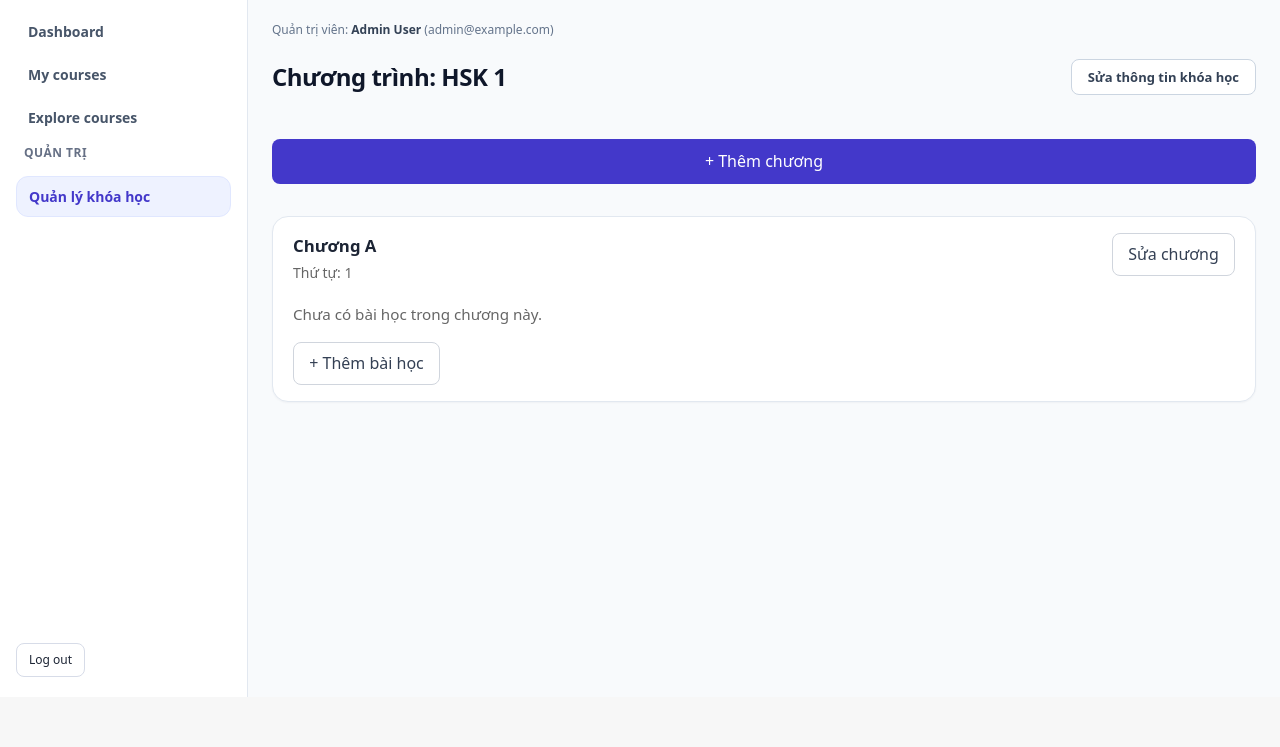
Test: AdminCurriculumPage › shows validation errors when creating a lesson with invalid duration
Expected: the heading "Chương A" is shown, [293, 233, 376, 258]
Click the button "+ Thêm bài học": [366, 363] box [293, 342, 440, 385]
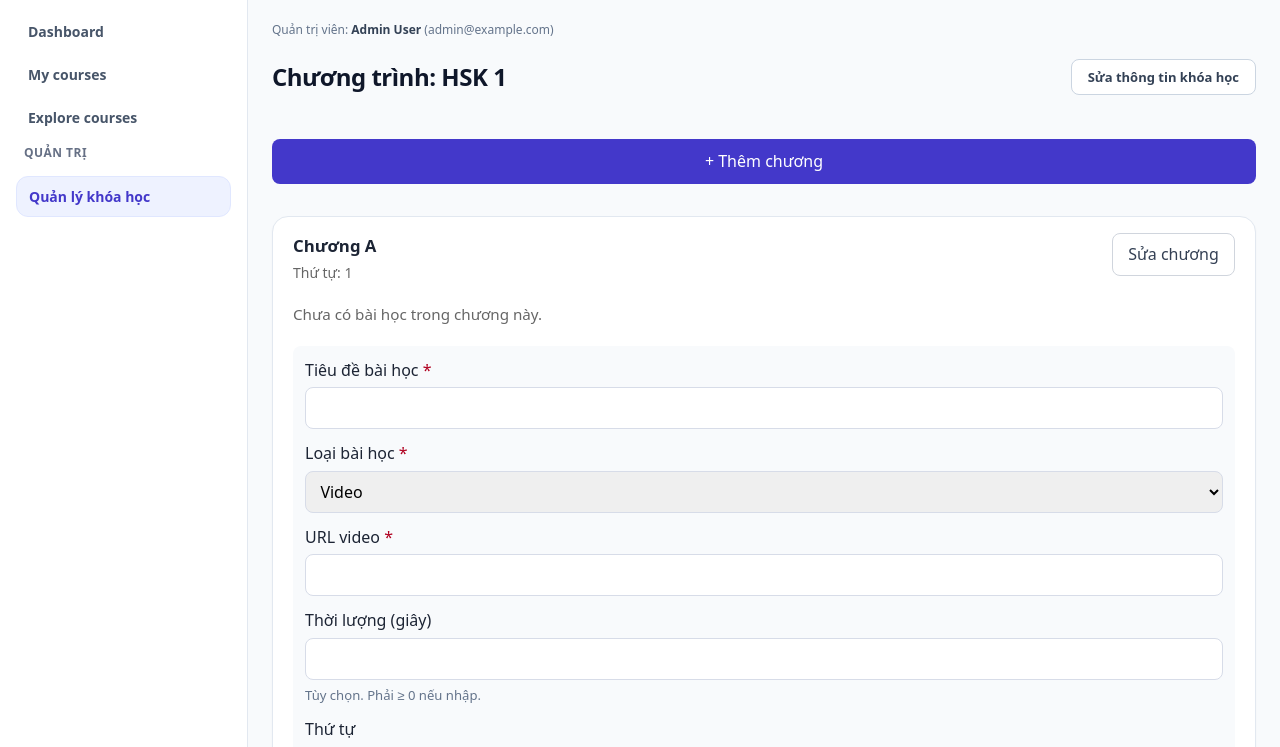
In the field labelled "Tiêu đề bài học *": [764, 408] box [305, 387, 1223, 429], type "Quiz intro"
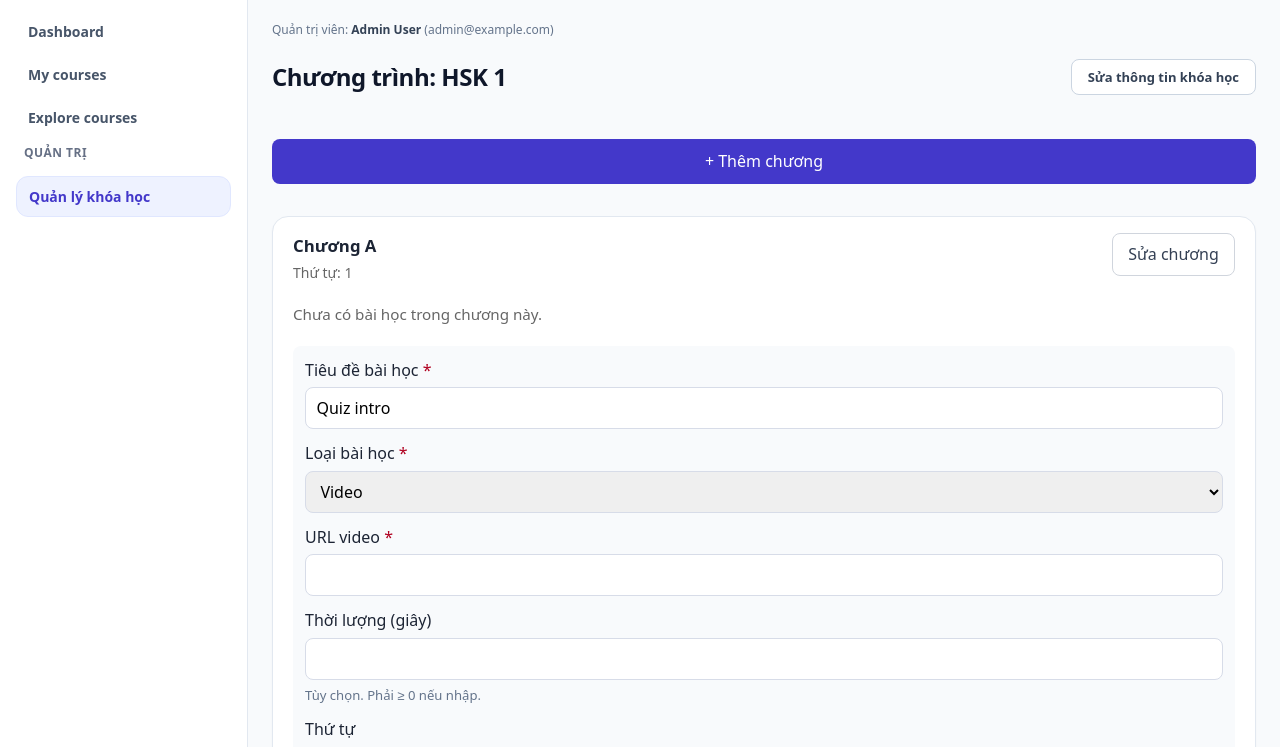
In the field labelled "URL video *": [764, 575] box [305, 554, 1223, 596], type "https://example.com/video.mp4"
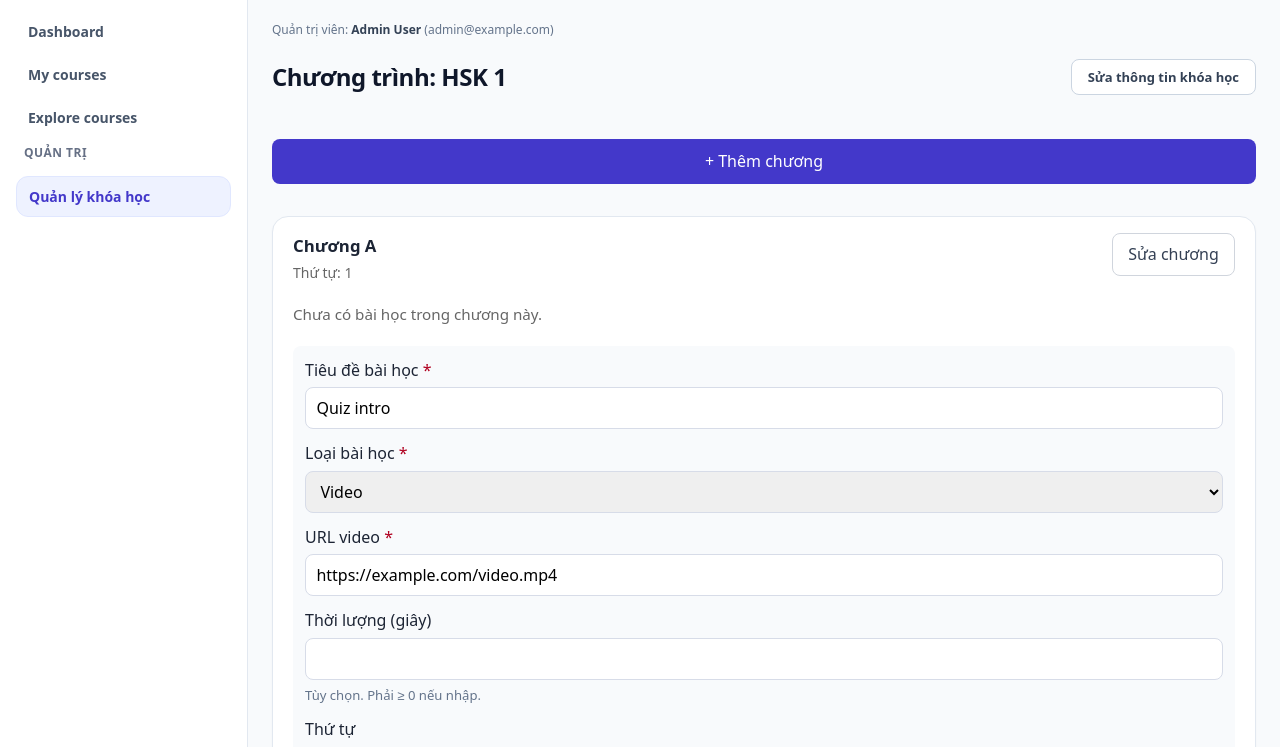
In the field labelled "Thời lượng (giây)": [764, 659] box [305, 638, 1223, 680], type "-5"
(page scrolled)
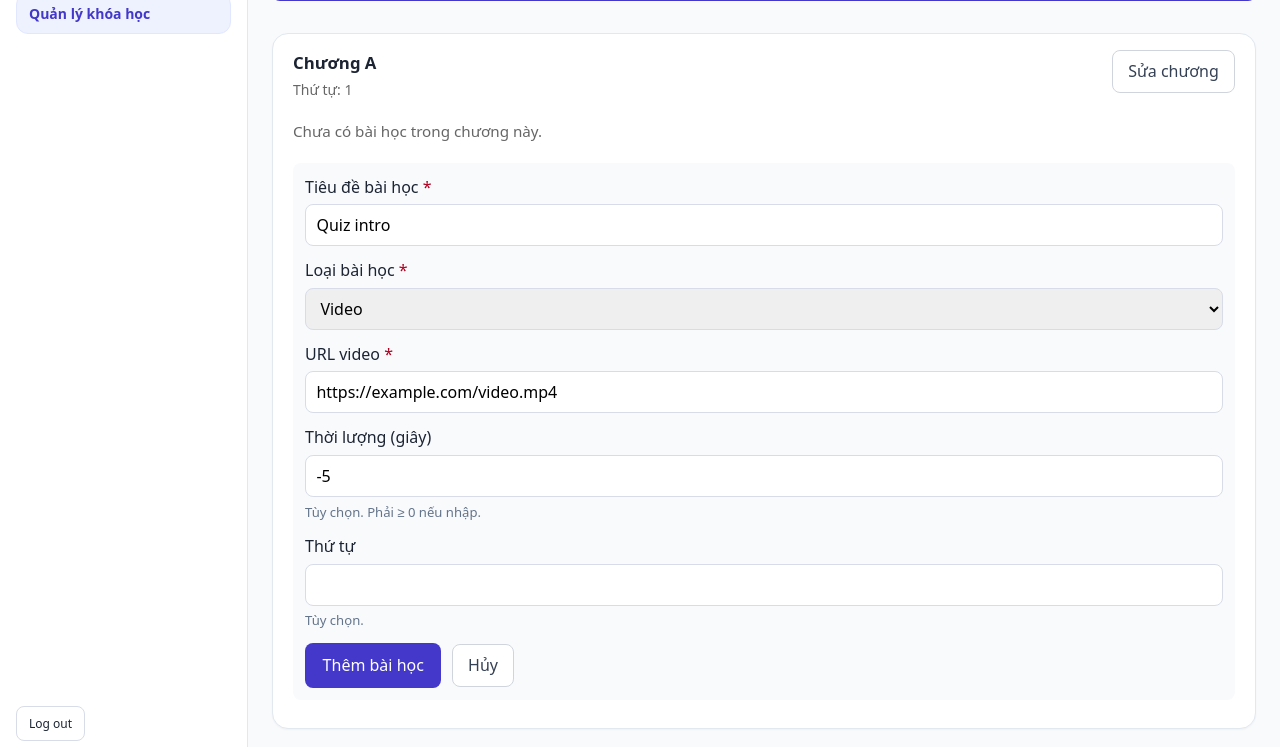
Click the button "Thêm bài học": [373, 666] box [305, 643, 442, 688]
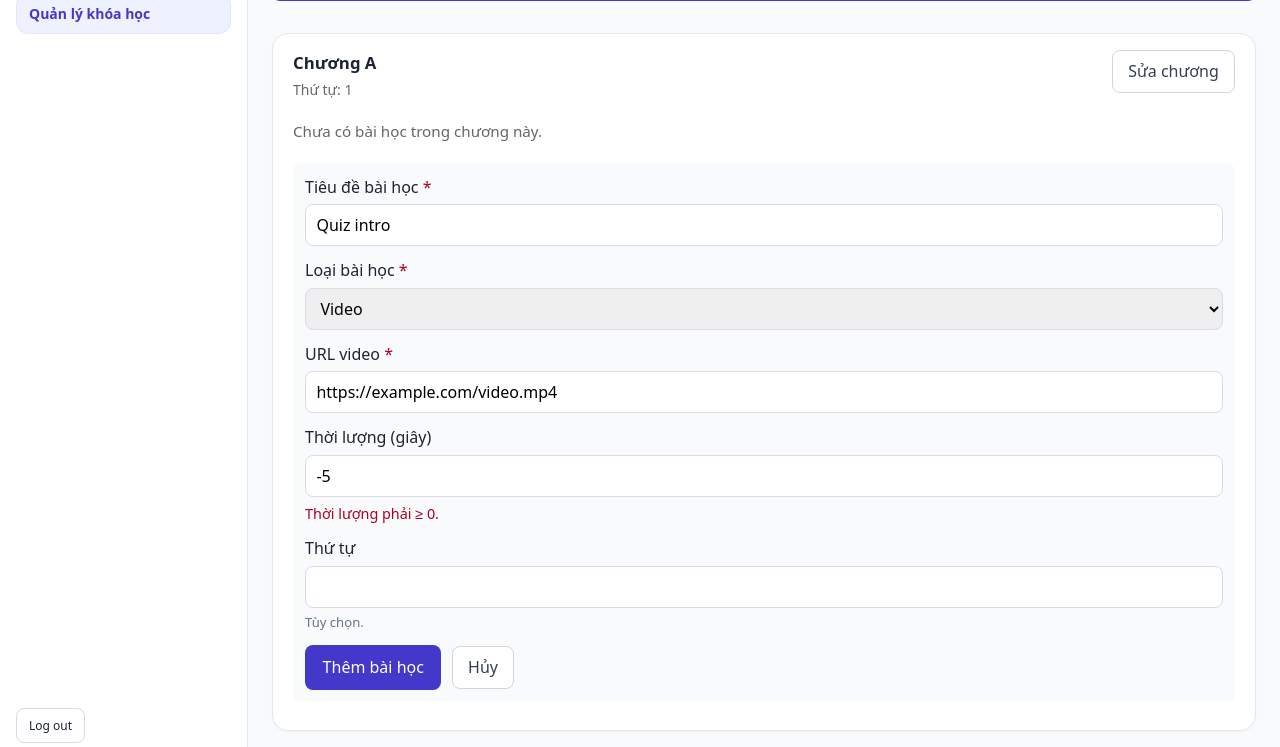
Result: the text "Thời lượng phải ≥ 0." is shown at [305, 504, 439, 522]
